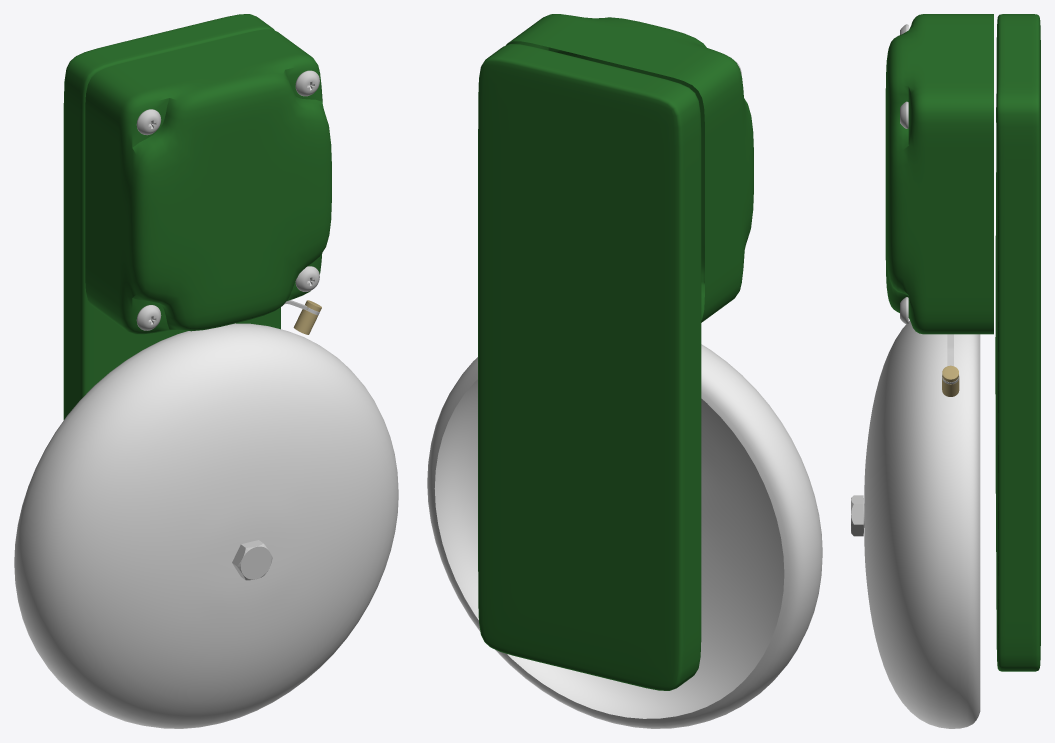
Rendered from school_alarm_bell.glb.
3 views of the same model, side by side, from view 1: azimuth 30°, elevation 25°; view 2: azimuth 150°, elevation 25°; view 3: azimuth 270°, elevation 25° (orthographic). The views are drawn at different scales.
Parts seen in each view (by area): view 1: Plane_4, Cube.001_1, Cube_2, Bolt.002_0, Bolt_3; view 2: Cube_2, Plane_4, Cube.001_1; view 3: Plane_4, Cube.001_1, Cube_2, Bolt_3, Bolt.002_0, Cylinder_6.
Boxes of the visible parts, x1=… form: Plane_4: x1=14, y1=323, x2=398, y2=728; Cube.001_1: x1=85, y1=29, x2=331, y2=334; Cube_2: x1=63, y1=14, x2=280, y2=419; Bolt.002_0: x1=136, y1=70, x2=319, y2=330; Bolt_3: x1=232, y1=540, x2=272, y2=580; Cube_2: x1=478, y1=44, x2=701, y2=690; Plane_4: x1=427, y1=344, x2=822, y2=728; Cube.001_1: x1=506, y1=14, x2=753, y2=322; Plane_4: x1=864, y1=320, x2=980, y2=728; Cube.001_1: x1=885, y1=14, x2=993, y2=334; Cube_2: x1=995, y1=14, x2=1040, y2=671; Bolt_3: x1=851, y1=495, x2=864, y2=536; Bolt.002_0: x1=900, y1=24, x2=908, y2=324; Cylinder_6: x1=942, y1=365, x2=959, y2=396.
Size of the model in its own units: 0.2408 by 0.4079 by 0.1071.
